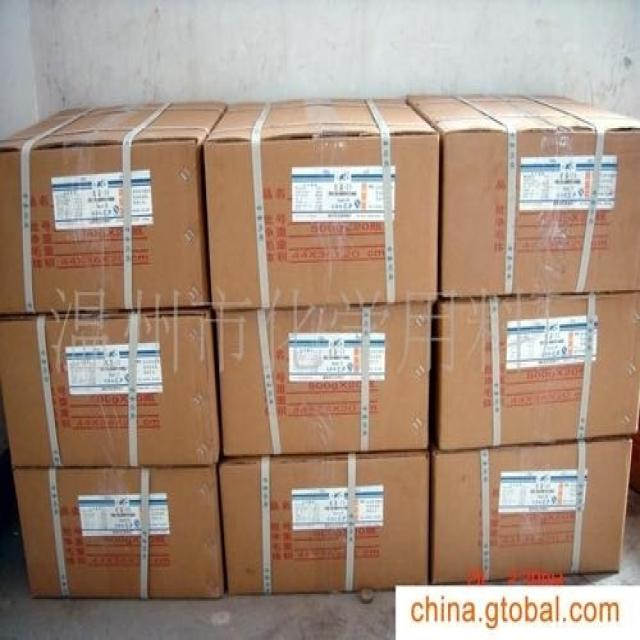box: (202, 99, 441, 312), (0, 101, 227, 315), (405, 94, 639, 298), (0, 310, 223, 465), (213, 305, 434, 455), (434, 290, 639, 447), (217, 447, 433, 590), (431, 439, 635, 585), (12, 466, 226, 597)
